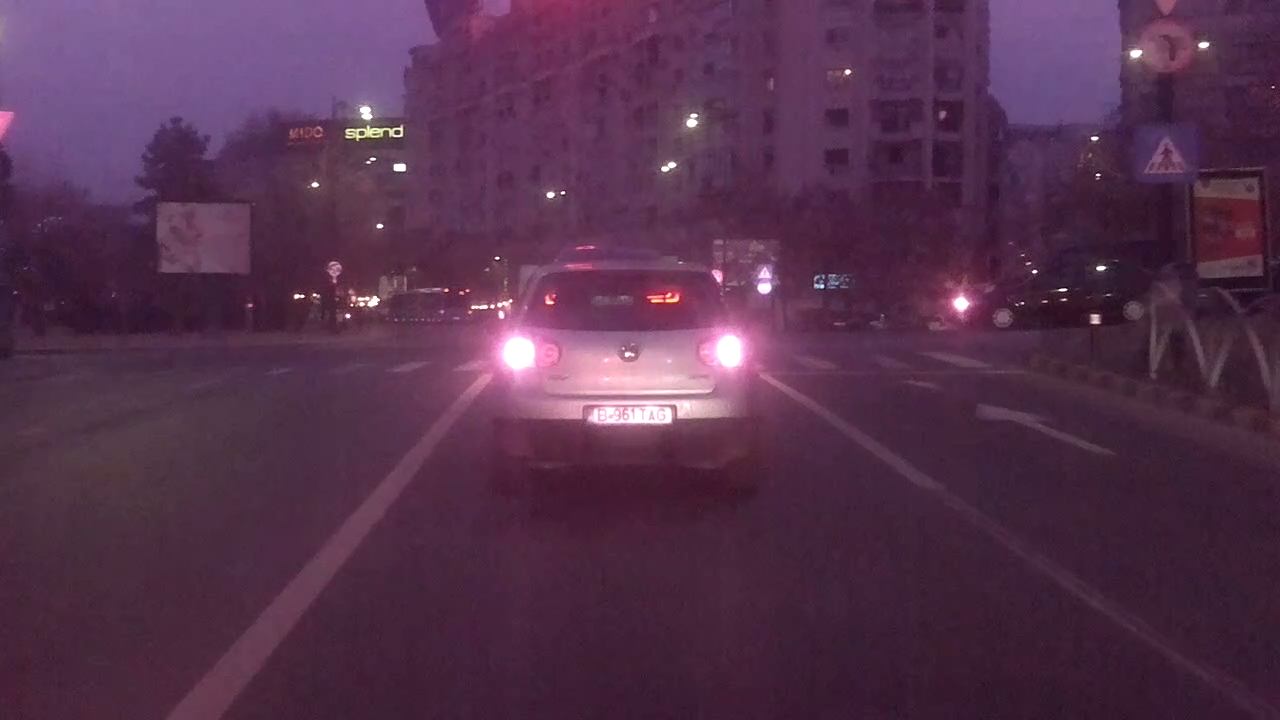license-plate: (585, 403, 676, 427)
